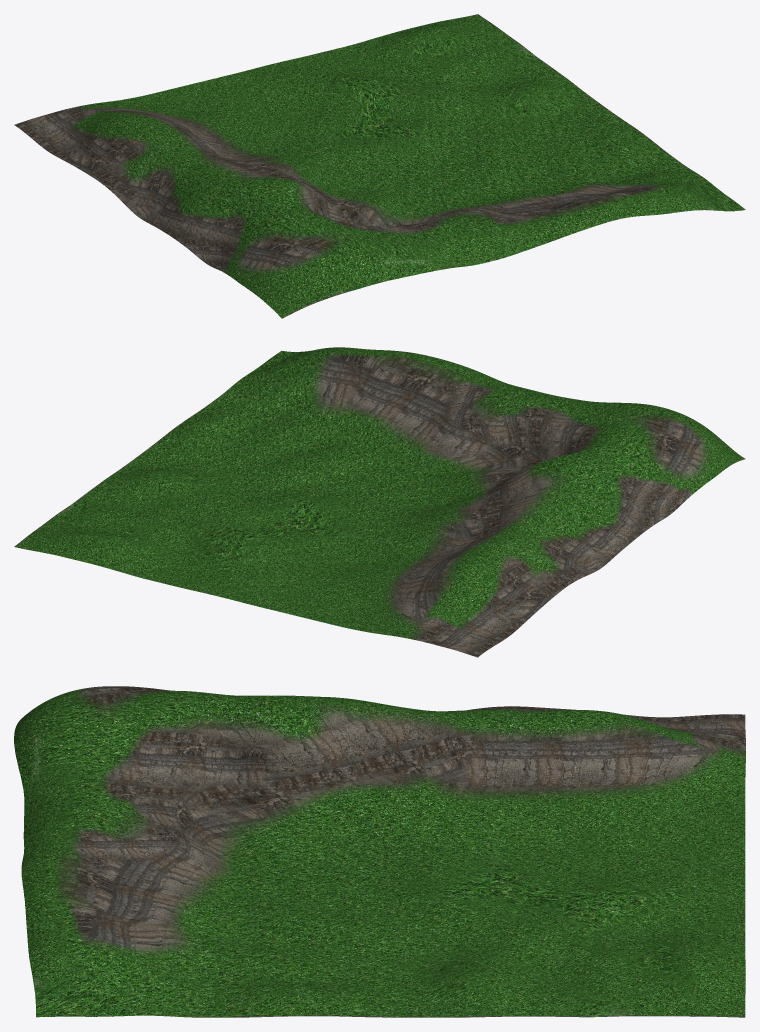
File: Terrain.fbx
3 renders of one model, top to bottom at view 1: azimuth 30°, elevation 25°; view 2: azimuth 150°, elevation 25°; view 3: azimuth 270°, elevation 25°, orthographic. The views are drawn at different scales.
Parts seen in each view (by area): view 1: Plane; view 2: Plane; view 3: Plane.
Part boxes in pixels (bbox=[...]): Plane: bbox=[14, 14, 745, 318]; Plane: bbox=[14, 347, 745, 657]; Plane: bbox=[14, 686, 745, 1017].
Bounding box in the file's own units: 8075 × 826 × 8228.
1 material, 1 textured.
